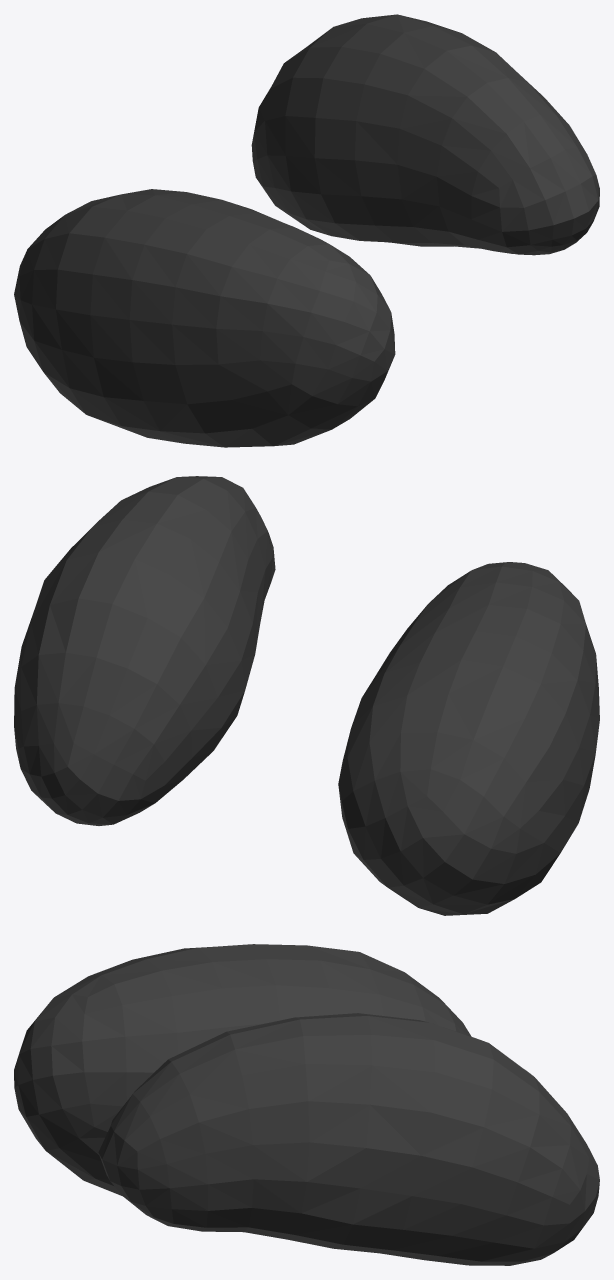
File: Palmar_sesamoid_2.glb
The picture shows the model from 3 angles, top to bottom: view 1: azimuth 30°, elevation 25°; view 2: azimuth 150°, elevation 25°; view 3: azimuth 270°, elevation 25°; orthographic projection. The views are drawn at different scales.
Visible parts, largest first — view 1: Palmar_sesamoid_2; view 2: Palmar_sesamoid_2; view 3: Palmar_sesamoid_2.
Boxes of the visible parts, x1,y1,x2,y2 form: Palmar_sesamoid_2: [14, 14, 599, 447]; Palmar_sesamoid_2: [14, 476, 599, 915]; Palmar_sesamoid_2: [14, 944, 599, 1265].
Bounding box in the file's own units: 0.1214 × 0.0745 × 0.1204.
1 material, 1 textured.
